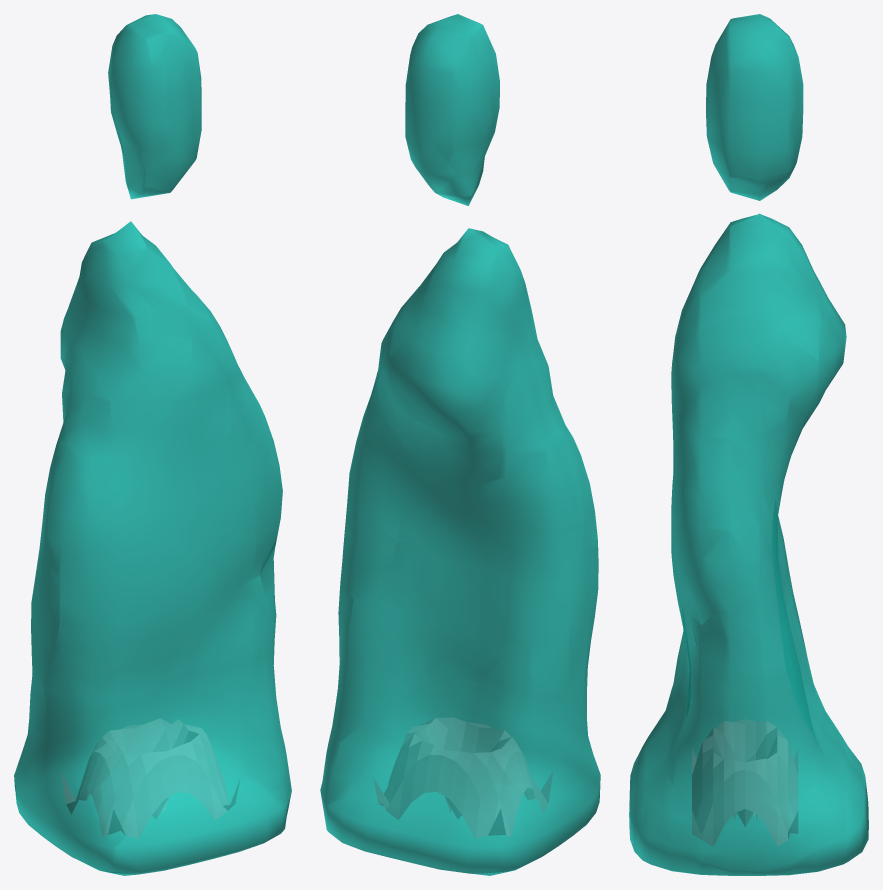
3 views of the same model, side by side, from view 1: azimuth 30°, elevation 25°; view 2: azimuth 150°, elevation 25°; view 3: azimuth 270°, elevation 25° (orthographic).
Visible parts, largest first — view 1: Liquid_Domain, グリッド; view 2: Liquid_Domain, グリッド; view 3: Liquid_Domain, グリッド.
Boxes of the visible parts, bbox=[...] form: Liquid_Domain: bbox=[14, 14, 291, 875]; グリッド: bbox=[61, 718, 239, 838]; Liquid_Domain: bbox=[320, 14, 600, 875]; グリッド: bbox=[373, 717, 552, 838]; Liquid_Domain: bbox=[629, 14, 868, 875]; グリッド: bbox=[692, 719, 797, 846].
Bounding box in the file's own units: 0.7784 × 2.58 × 0.676.
